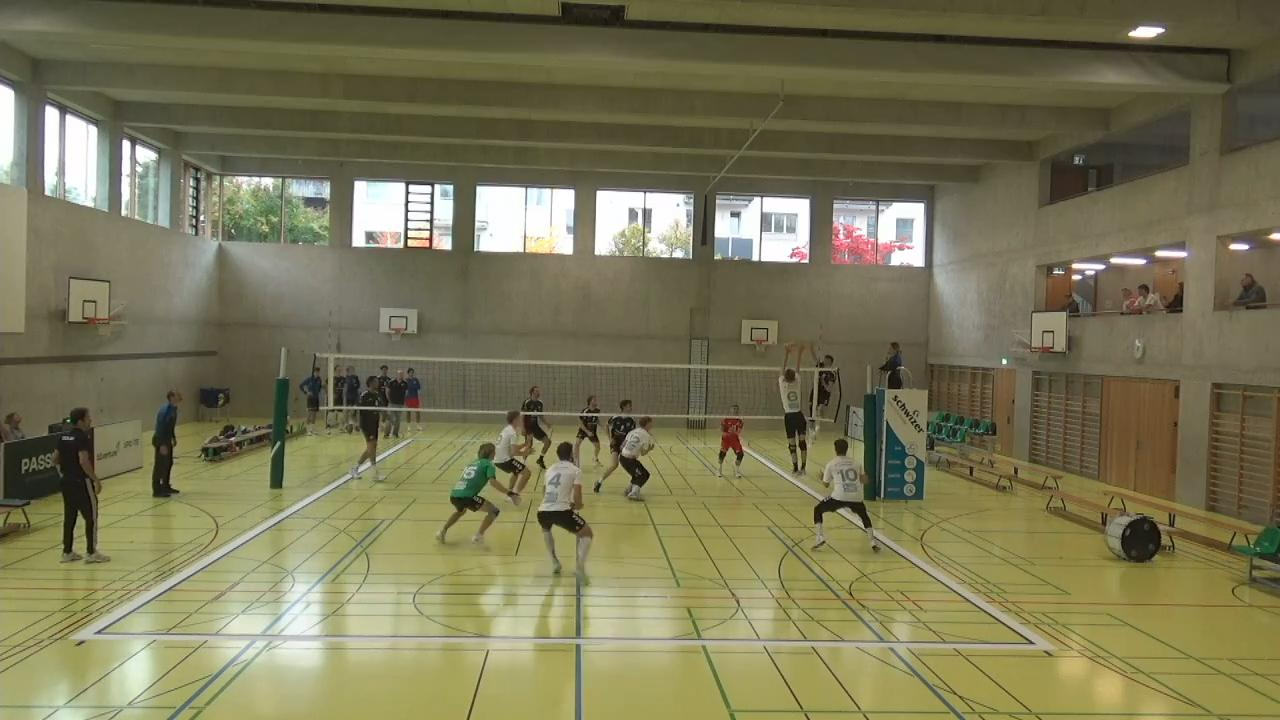attacco: (809, 340, 838, 445)
muro: (774, 335, 813, 482)
